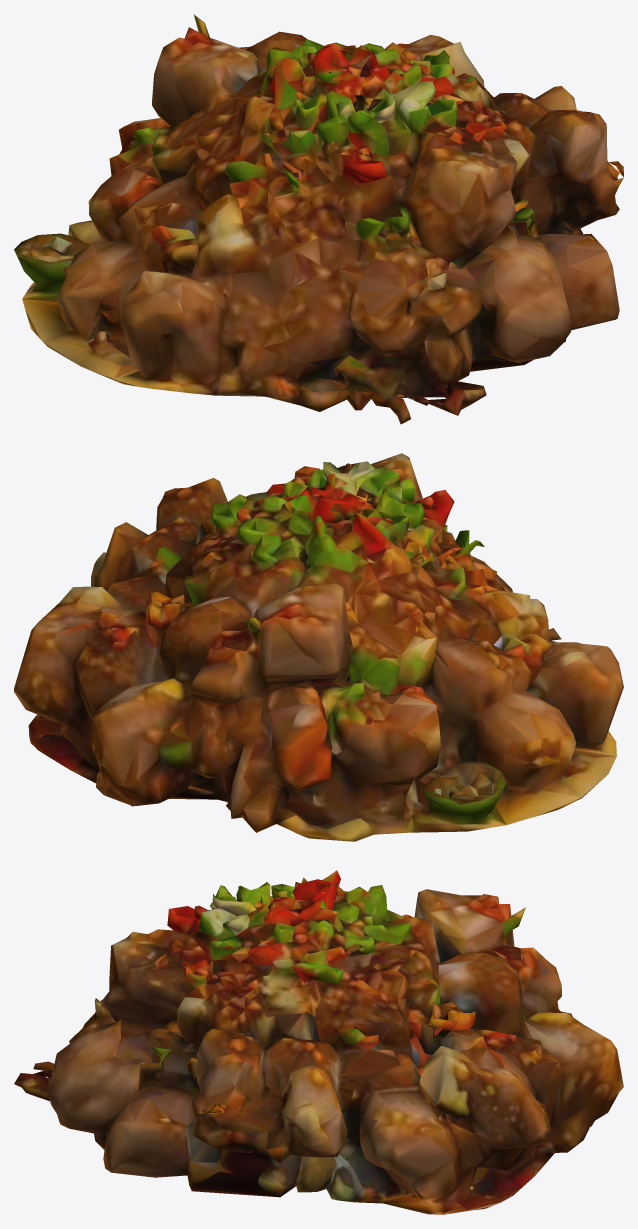
The model's file is 3辣椒排骨.fbx.
3 views of the same model, one above another, from view 1: azimuth 30°, elevation 25°; view 2: azimuth 150°, elevation 25°; view 3: azimuth 270°, elevation 25° (orthographic). The views are drawn at different scales.
Visible parts, largest first — view 1: tripo_node_cf971a3b; view 2: tripo_node_cf971a3b; view 3: tripo_node_cf971a3b.
Part boxes in pixels (left/top/right/bottom): tripo_node_cf971a3b: left=14, top=15, right=623, bottom=424; tripo_node_cf971a3b: left=14, top=453, right=623, bottom=841; tripo_node_cf971a3b: left=14, top=870, right=623, bottom=1214.
Bounding box in the file's own units: 92.91 × 41.5 × 99.84.
1 material, 1 textured.
